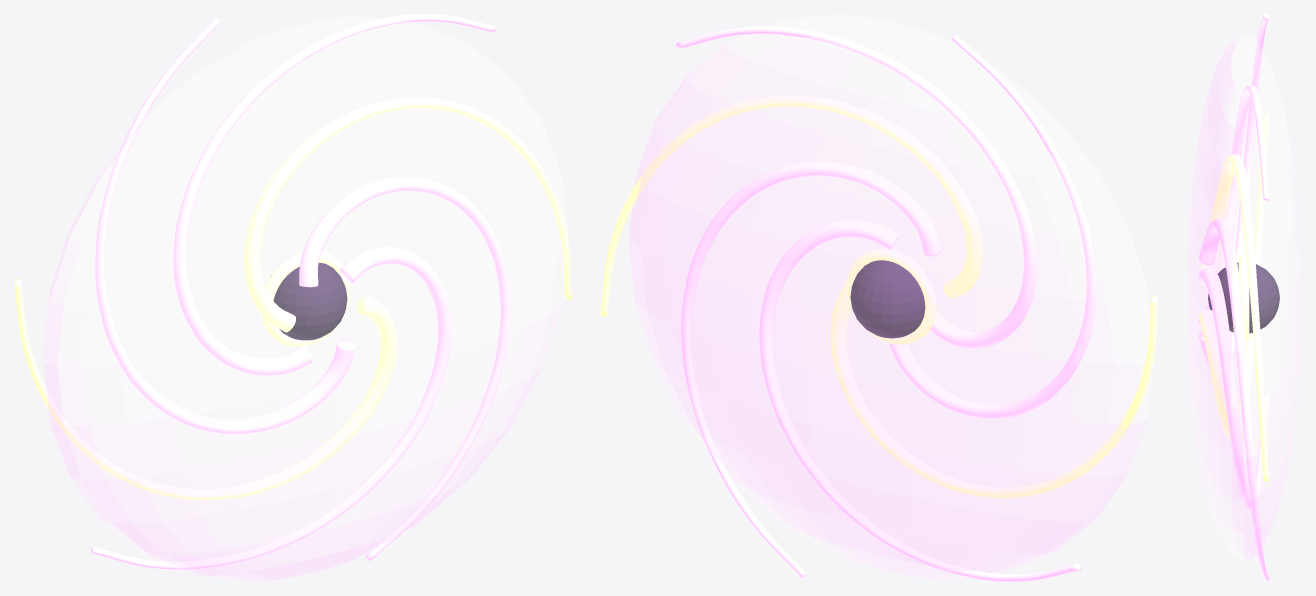
Rendered from VFX_06_七娃_宝葫芦紫金旋涡.glb.
The picture shows the model from 3 angles, left to right: view 1: azimuth 30°, elevation 25°; view 2: azimuth 150°, elevation 25°; view 3: azimuth 270°, elevation 25°; orthographic projection. The views are drawn at different scales.
Parts seen in each view (by area): view 1: Sphere.001, SpiralArm_5, SpiralArm_4, SpiralArm_0, SpiralArm_2, SpiralArm_3, SpiralArm_1, Sphere, Torus; view 2: Sphere.001, SpiralArm_2, SpiralArm_1, SpiralArm_3, SpiralArm_4, SpiralArm_5, SpiralArm_0, Sphere, Torus; view 3: Sphere.001, SpiralArm_2, SpiralArm_3, SpiralArm_1, SpiralArm_0, SpiralArm_4, SpiralArm_5, Sphere, Torus.
Boxes of the visible parts, x1,y1,x2,y2 form: Sphere.001: [43, 16, 568, 581]; SpiralArm_5: [95, 18, 355, 434]; SpiralArm_4: [173, 14, 495, 375]; SpiralArm_0: [14, 279, 396, 500]; SpiralArm_2: [299, 176, 510, 561]; SpiralArm_3: [244, 97, 571, 332]; SpiralArm_1: [90, 246, 451, 569]; Sphere: [271, 262, 347, 340]; Torus: [261, 252, 350, 346]; Sphere.001: [629, 14, 1154, 579]; SpiralArm_2: [681, 161, 941, 577]; SpiralArm_1: [759, 220, 1081, 581]; SpiralArm_3: [600, 95, 982, 316]; SpiralArm_4: [676, 26, 1037, 349]; SpiralArm_5: [889, 34, 1096, 419]; SpiralArm_0: [830, 282, 1157, 498]; Sphere: [850, 260, 925, 338]; Torus: [847, 249, 936, 344]; Sphere.001: [1186, 35, 1301, 560]; SpiralArm_2: [1198, 218, 1269, 581]; SpiralArm_3: [1198, 154, 1269, 481]; SpiralArm_1: [1198, 268, 1269, 510]; SpiralArm_0: [1198, 114, 1269, 440]; SpiralArm_4: [1198, 85, 1269, 324]; SpiralArm_5: [1198, 14, 1269, 371]; Sphere: [1208, 262, 1279, 333]; Torus: [1238, 254, 1249, 341].
Size of the model in its own units: 3.71 by 3.7 by 0.77.
